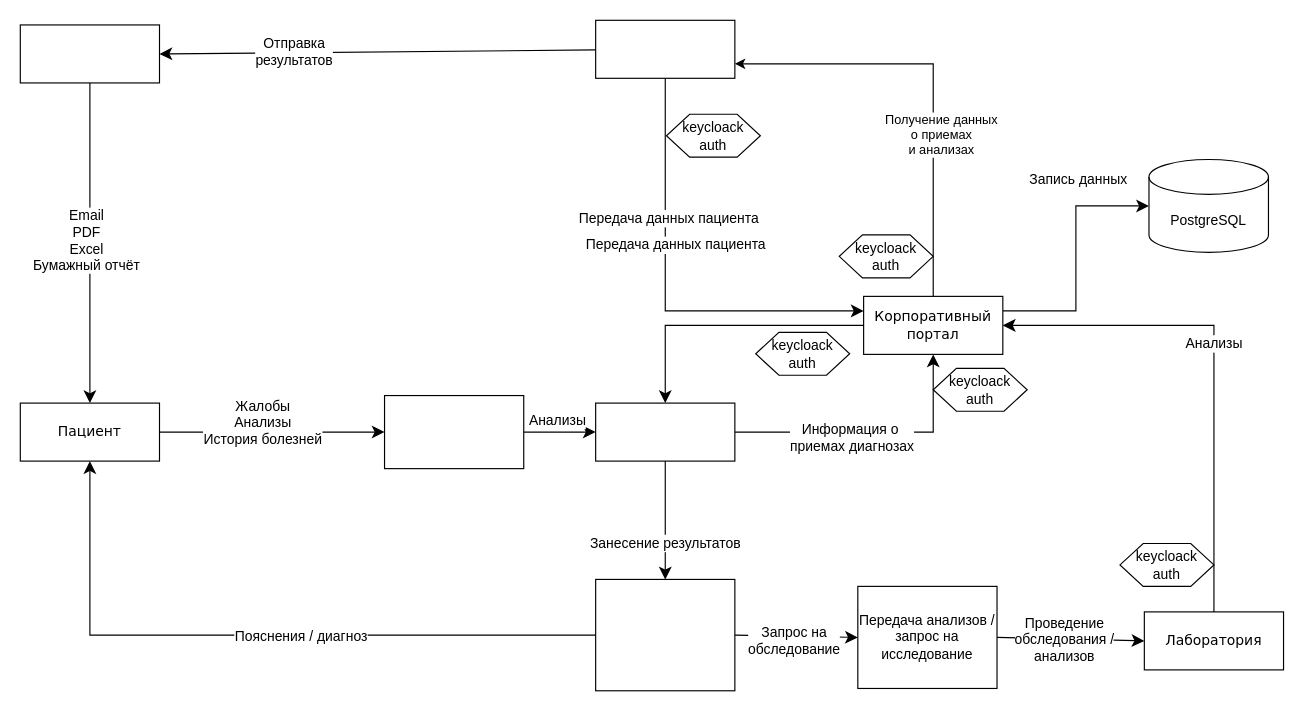
This 1304x711 diagram has some shape labels left out. The shapes that lost their labels are listed below. From the top down, each one's centre as x and y in pixels, then its label:
At (x=89, y=53): "Оповещение с результатами лаборатории".
At (x=664, y=48): "Ресепшн".
At (x=453, y=431): "Сбор данных о пациенте / обследование".
At (x=664, y=431): "Врач".
At (x=664, y=634): "Запись: Диагноза Назначения Рекомендации Описания приёма".
